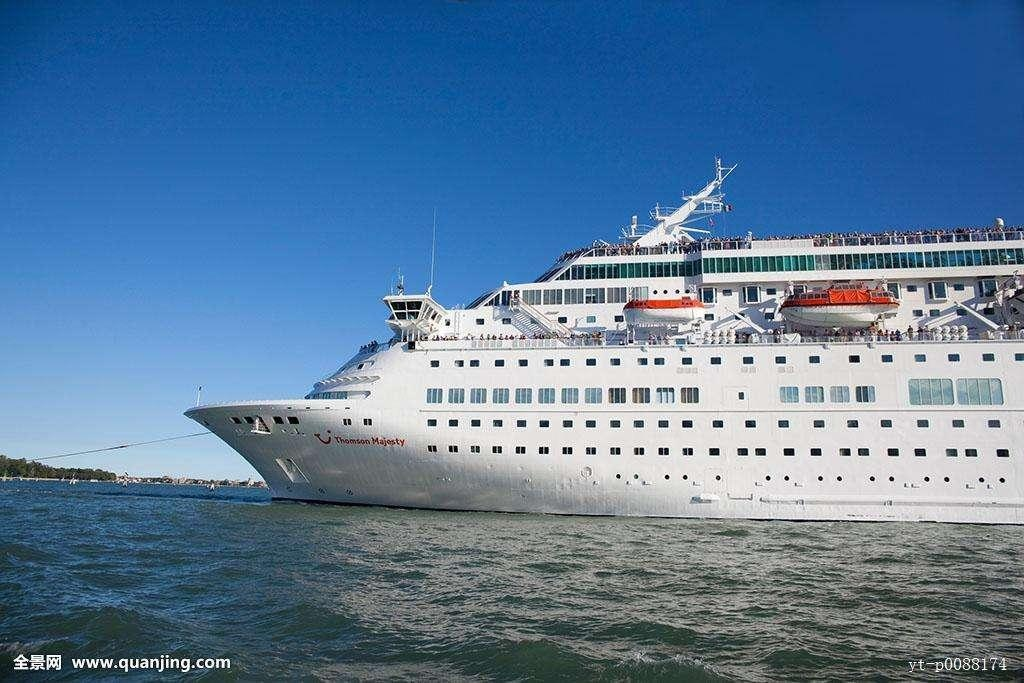youlun: (179, 194, 1024, 520)
